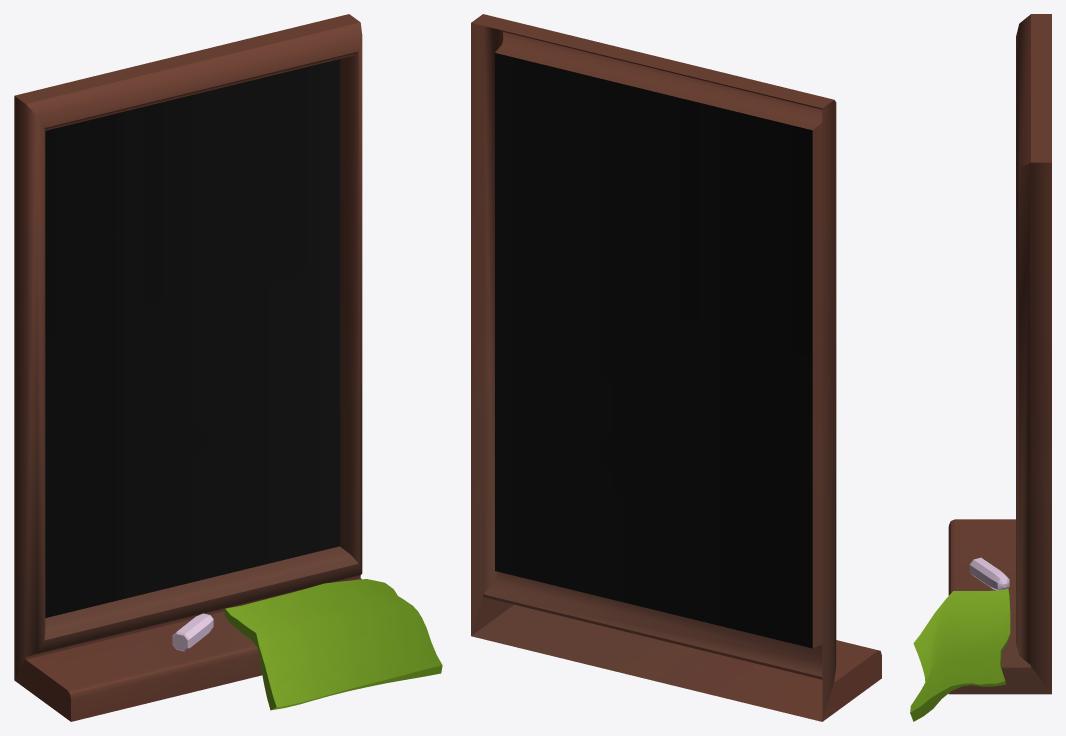
The model's file is wall_desk.fbx.
3 renders of one model, left to right at view 1: azimuth 30°, elevation 25°; view 2: azimuth 150°, elevation 25°; view 3: azimuth 270°, elevation 25°, orthographic. The views are drawn at different scales.
Visible parts, largest first — view 1: desk, tissue, charcoal; view 2: desk; view 3: desk, tissue, charcoal.
Boxes of the visible parts, box(x1,y1,x2,y2) form: desk: box(14, 14, 362, 721); tissue: box(224, 579, 442, 710); charcoal: box(172, 613, 213, 651); desk: box(471, 14, 881, 721); desk: box(948, 14, 1051, 694); tissue: box(910, 588, 1010, 721); charcoal: box(969, 557, 1009, 590).
Size of the model in its own units: 42.02 by 69.62 by 16.05.
1 material, 1 textured.
